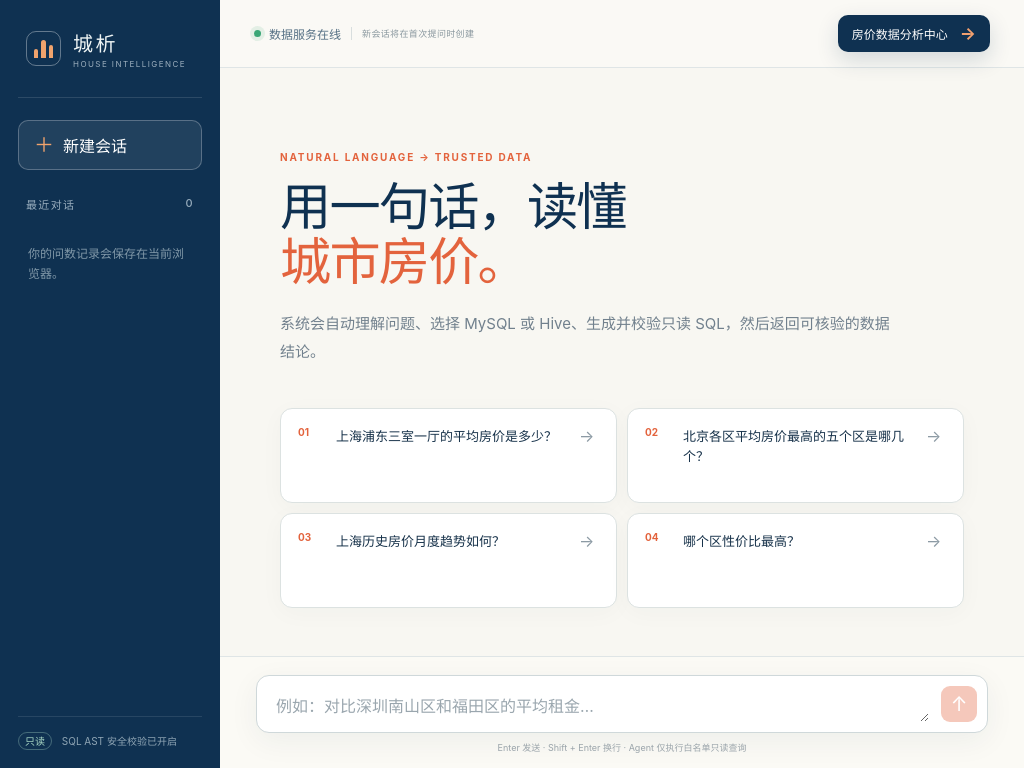
Test case: App conversations › new conversation sends no previous thread id
This screenshot has width=1024, height=768.
In the text box with placeholder "例如：对比深圳南山区和福田区的平均租金…": (602, 707) x1=274 y1=692 x2=929 y2=722, type "旧问题"
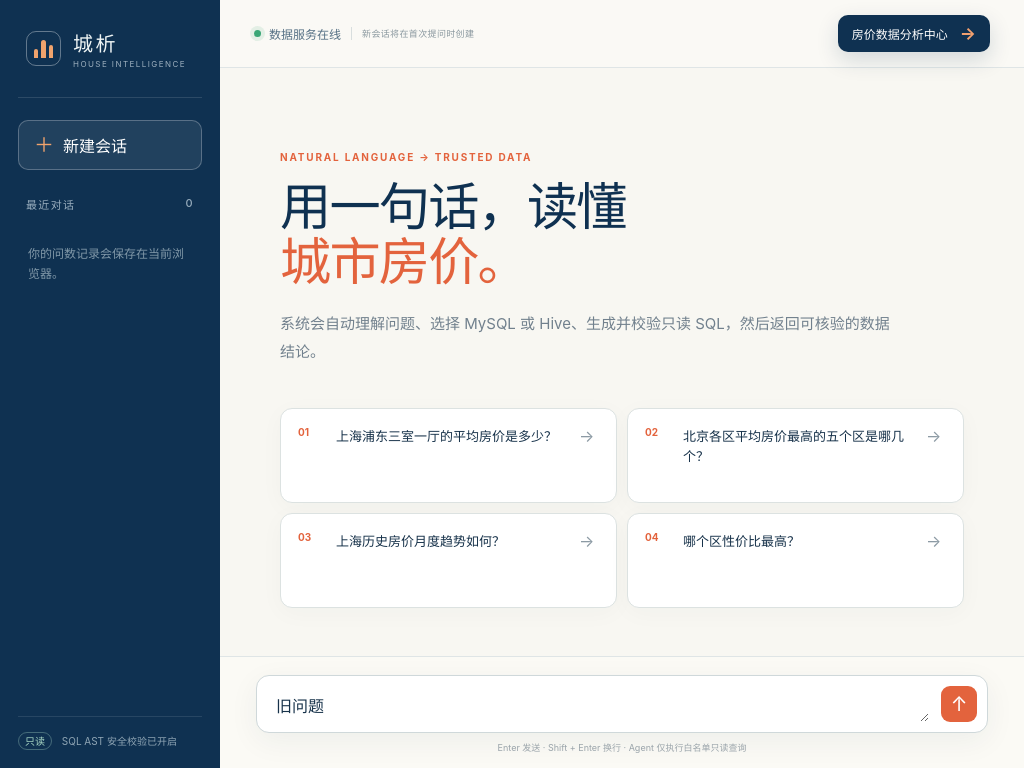
Click the button named "发送问题": (959, 704) x1=941 y1=686 x2=977 y2=722
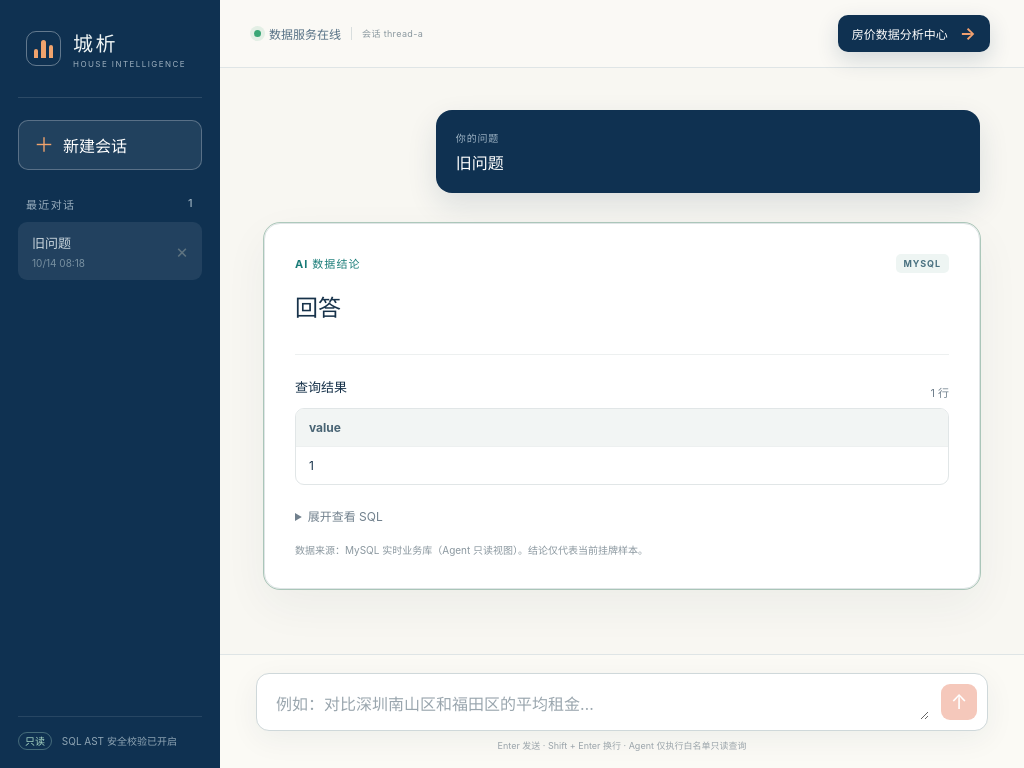
Check: the heading "回答" is shown, box x1=295 y1=296 x2=341 y2=321
Click the button "＋ 新建会话": (110, 145) x1=18 y1=120 x2=202 y2=170
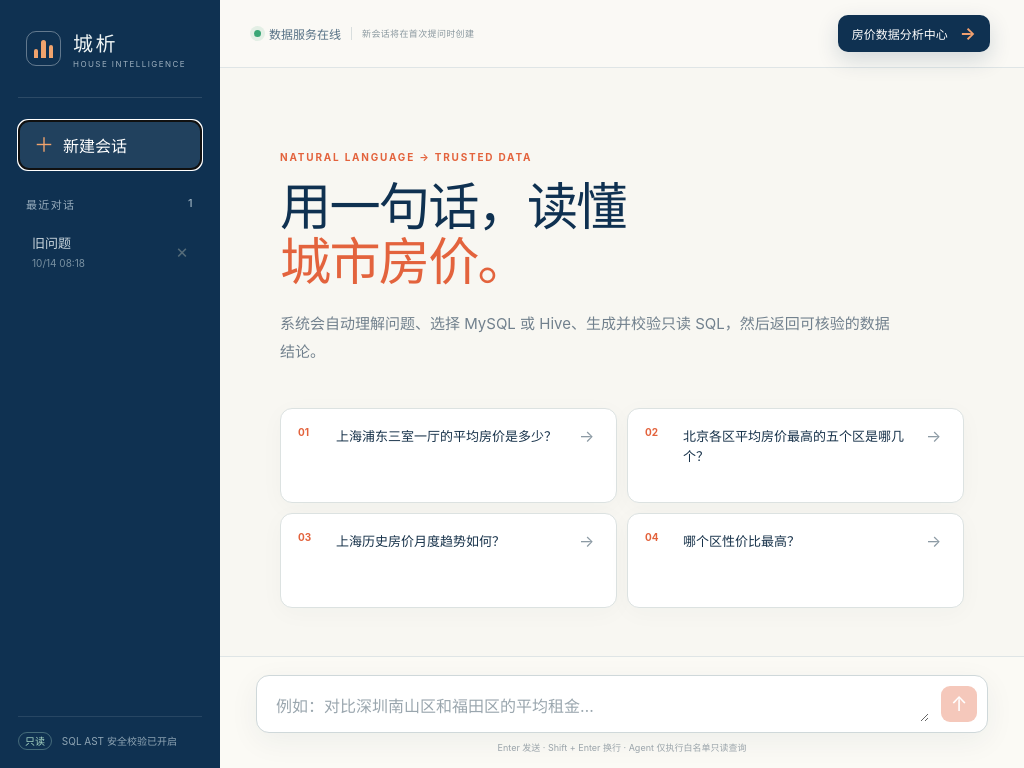
In the text box with placeholder "例如：对比深圳南山区和福田区的平均租金…": (602, 707) x1=274 y1=692 x2=929 y2=722, type "新问题"
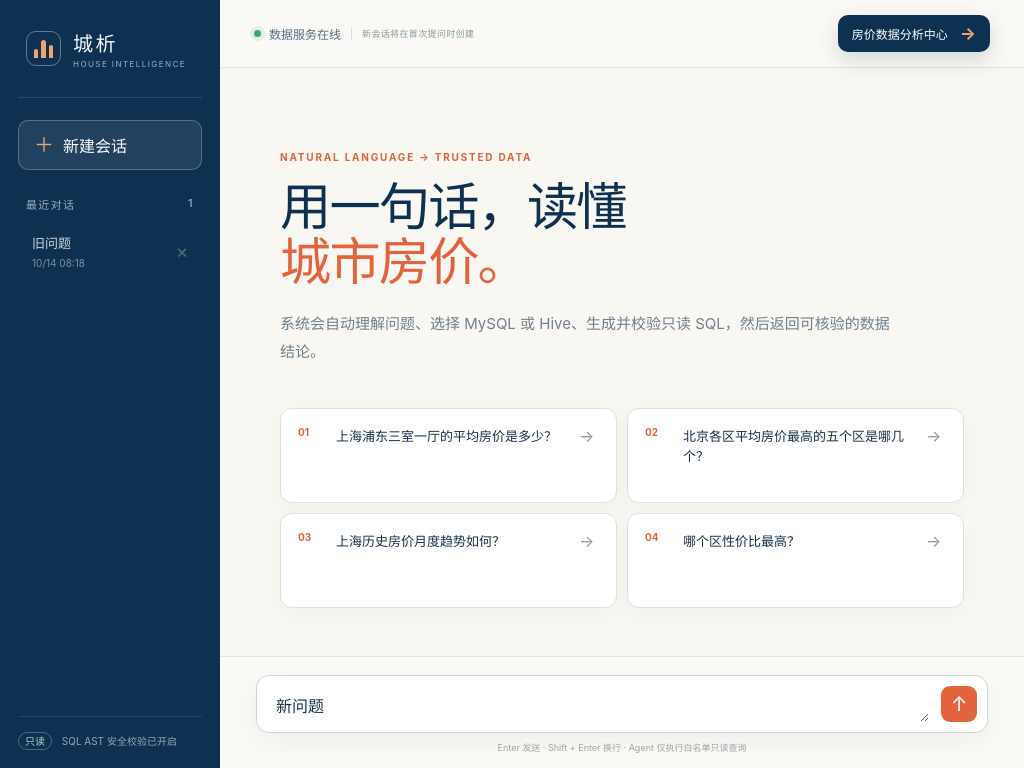
Click the button named "发送问题": (959, 704) x1=941 y1=686 x2=977 y2=722
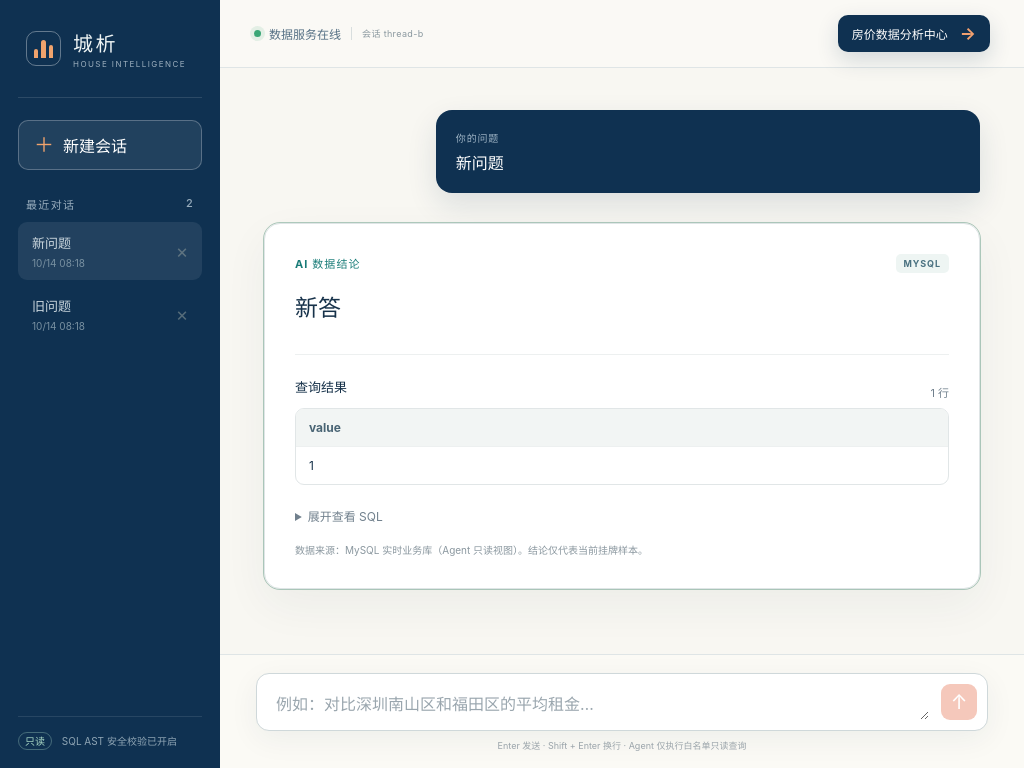
Check: the heading "新答" is shown, box x1=295 y1=296 x2=341 y2=321
